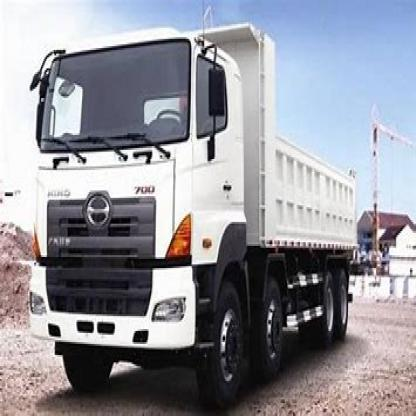dump_truck: (31, 11, 372, 403)
